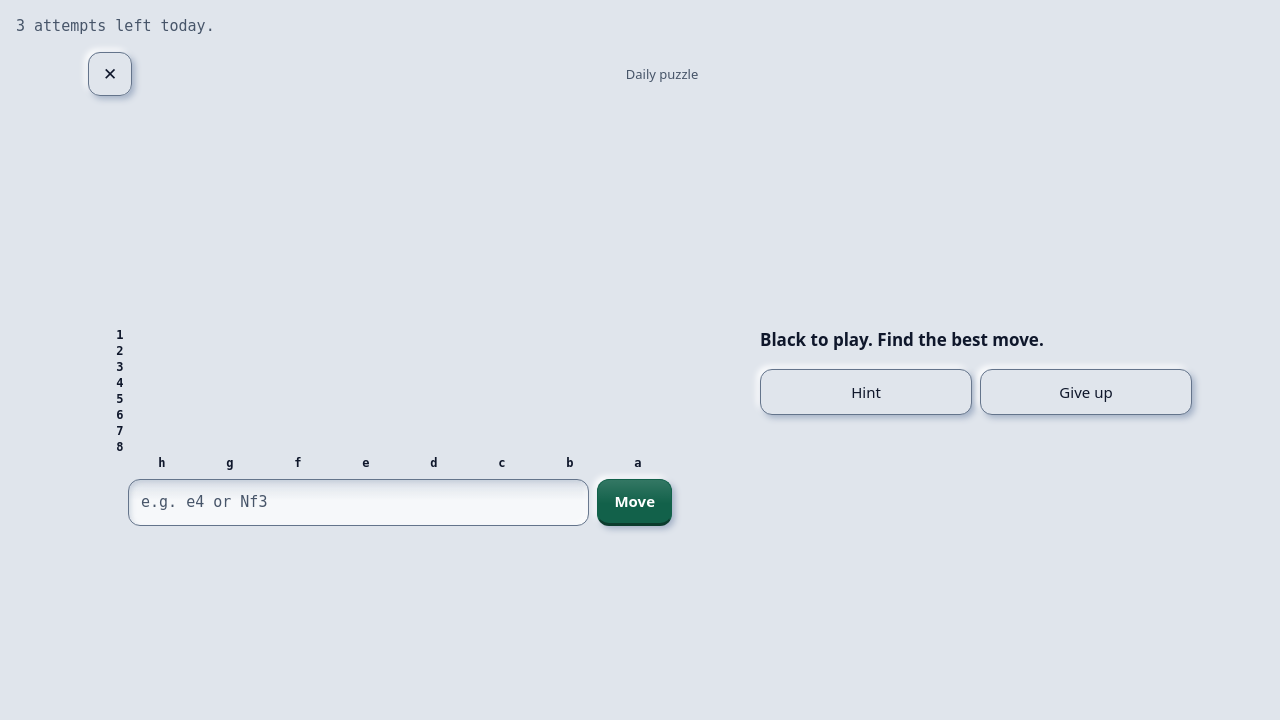
Test: the attempts left are stated before they are spent, not after
Expected: the text "3 attempts left today." is shown, [16,17,215,35]
Type "h1g1" into the field named "Type a move" at (359, 502), box [128,478,590,526]
Then press Enter
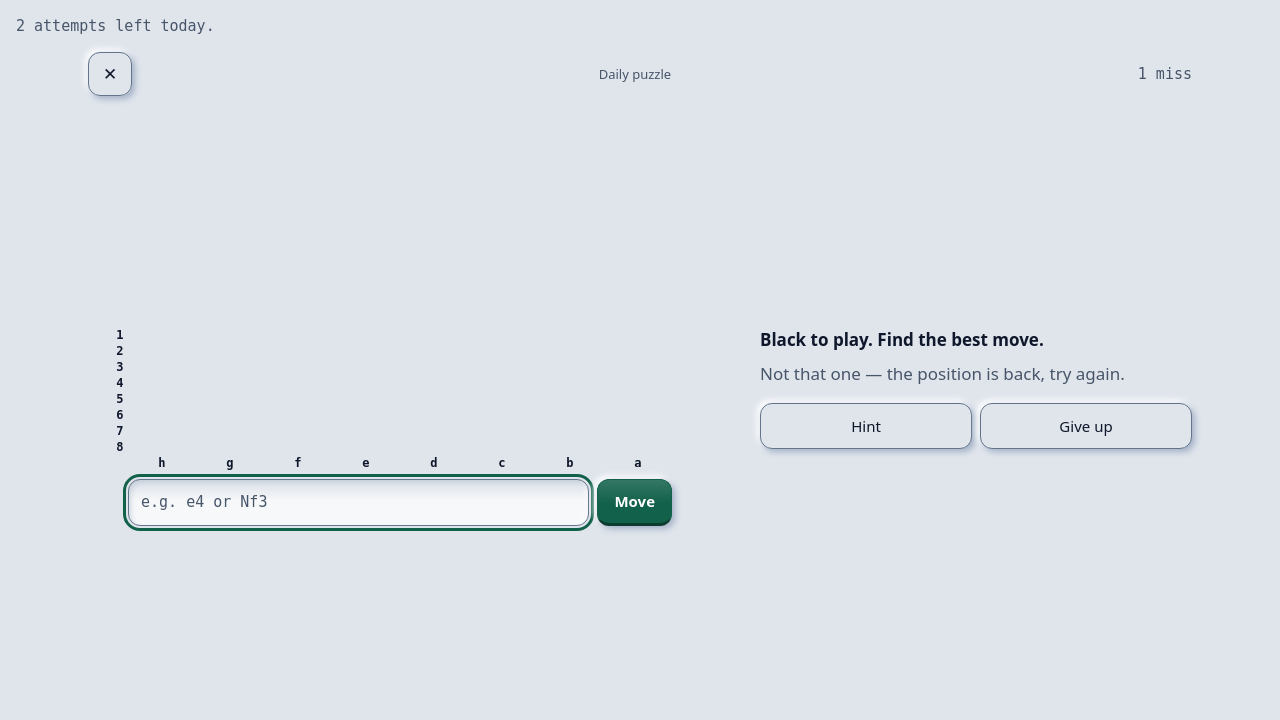
Expected: the text "2 attempts left today." is shown, [16,17,215,35]
